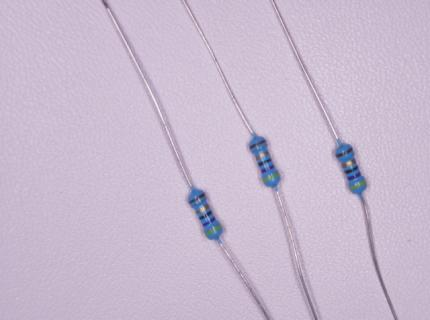Black band: (199, 210, 213, 221), (344, 165, 359, 174), (258, 158, 272, 167)
Brown band: (336, 147, 353, 159), (188, 193, 206, 204), (249, 140, 267, 150)
Gold band: (196, 204, 210, 214), (342, 159, 356, 168), (256, 151, 269, 160)
Violet band: (203, 217, 216, 227), (348, 172, 361, 181), (262, 165, 275, 173)
Yellow band: (205, 224, 221, 236), (349, 180, 366, 190), (263, 173, 279, 182)
